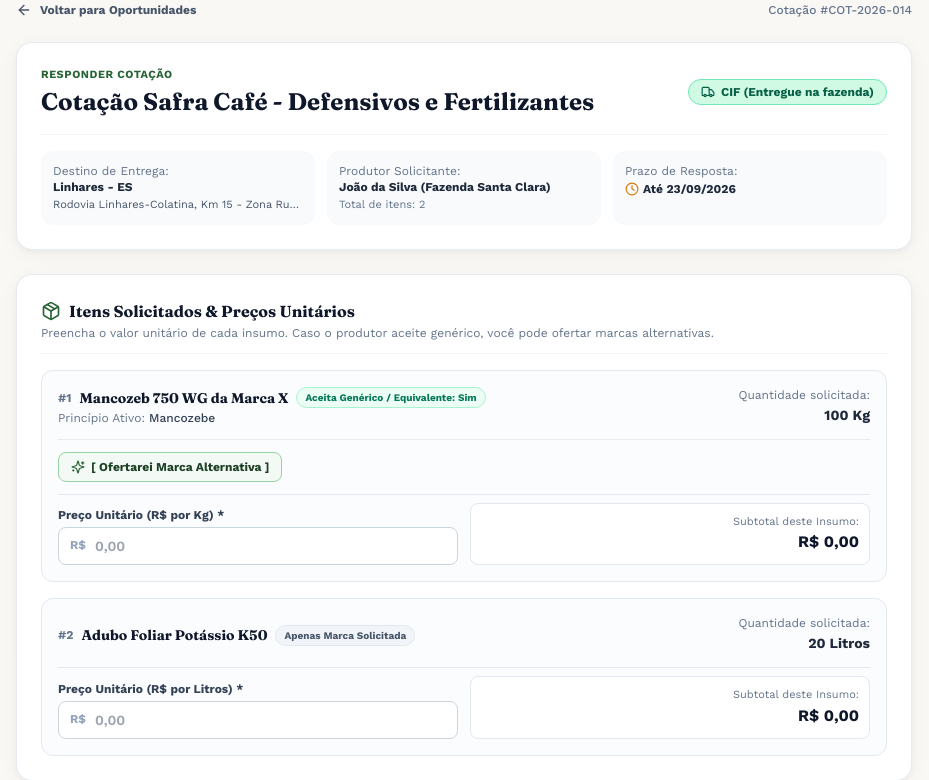
US14 – Envio de Proposta e Oferta de Genéricos/Equivalentes (SubmitBidPage) › Cenário 1: Preenchimento de proposta integral com frete CIF › deve preencher valores unitários, frete CIF, prazo, validade e submeter com status SUBMITTED e confirmação
Check: the heading "Cotação Safra Café - Defensivos e Fertilizantes" is shown, box [41,86,594,118]
Check: the element with test id "badge-freight-type" reads "CIF (Entregue na fazenda)", box [721,85,874,99]
Type "55.00" into the number field with test id "input-unit-price-item-generic-1" at (258, 546), box [58,527,458,565]
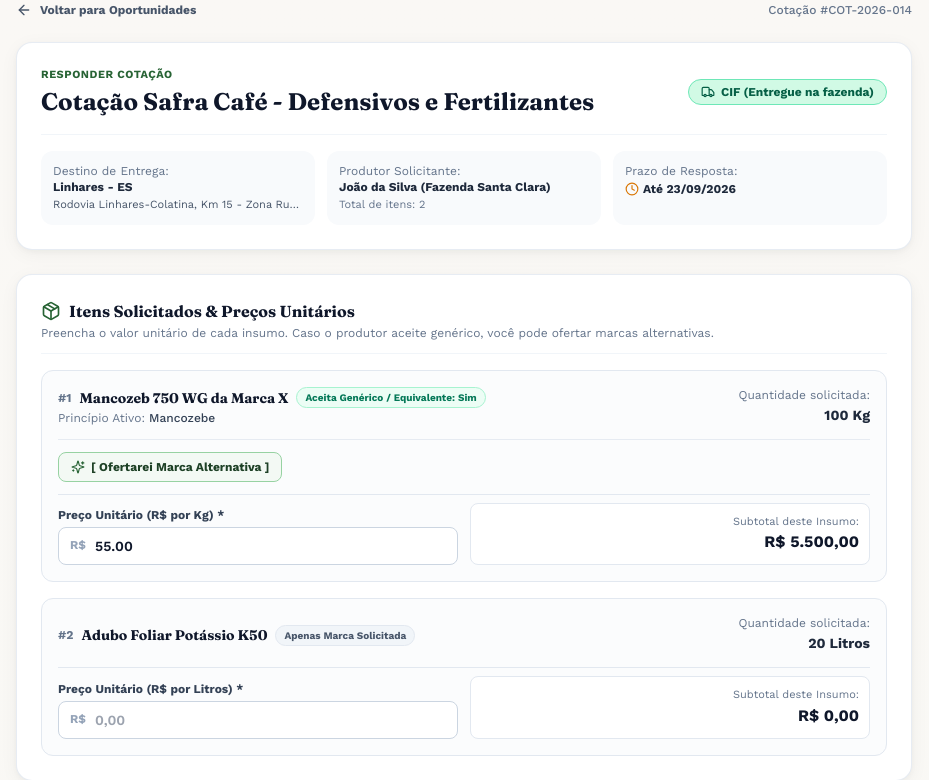
Type "80.00" into the number field with test id "input-unit-price-item-strict-2" at (258, 720), box [58,700,458,738]
(page scrolled)
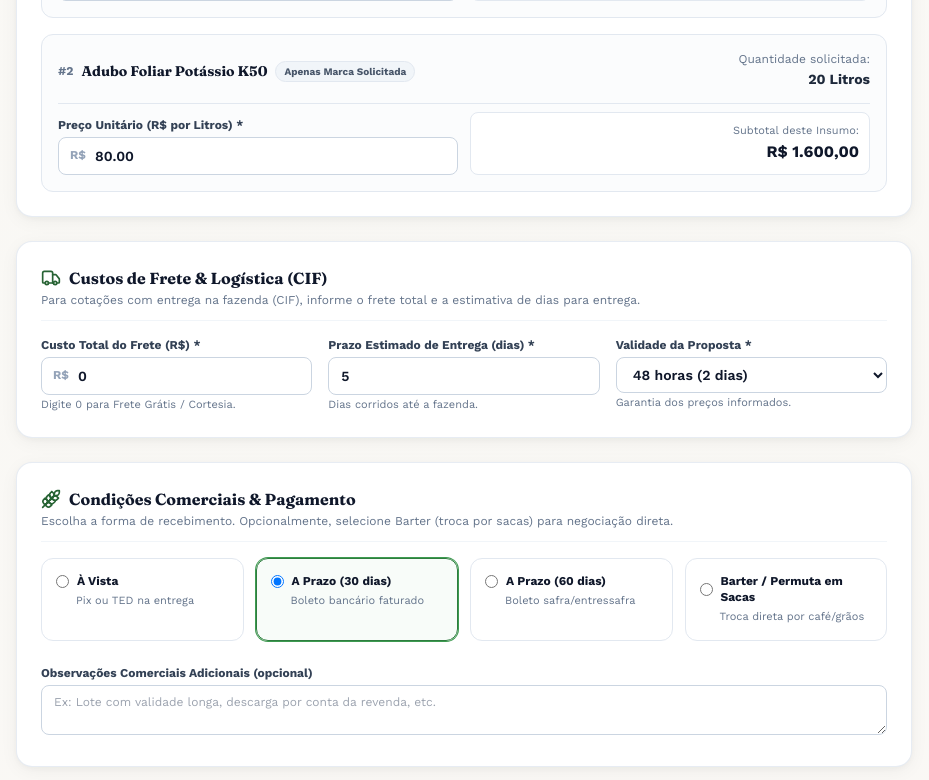
# Preenche frete CIF (R$ 150.00)
Replace the text in the number field with test id "input-freight-cost" with "150.00" at (177, 376), box [41,356,312,394]
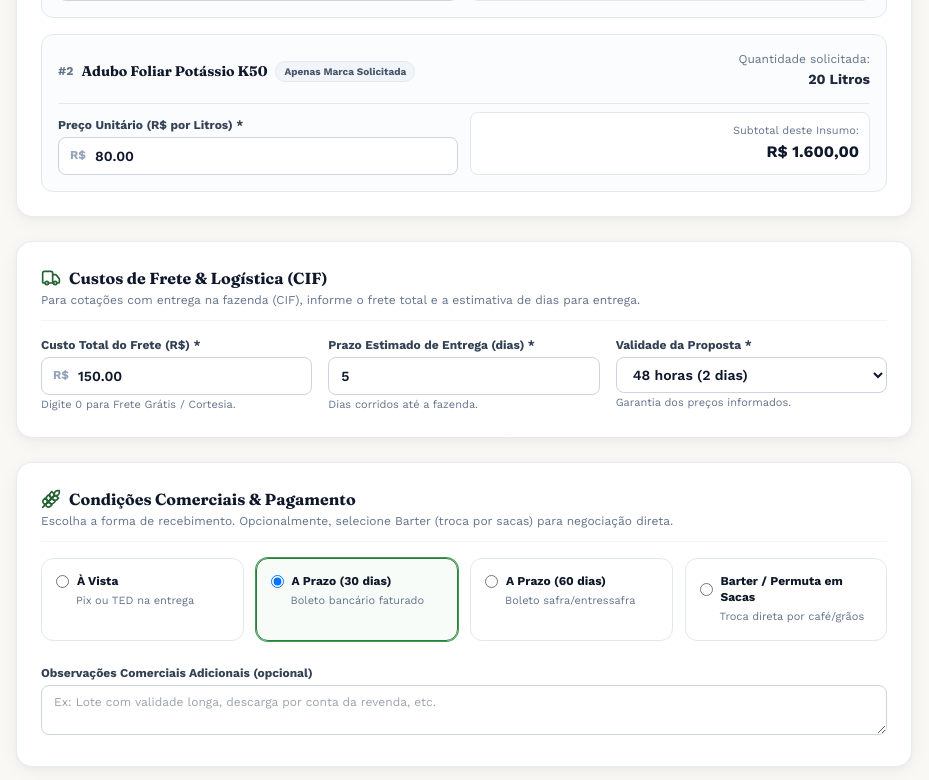
# Preenche prazo estimado de entrega (3 dias)
Replace the text in the number field with test id "input-delivery-days" with "3" at (464, 376), box [328,356,600,394]
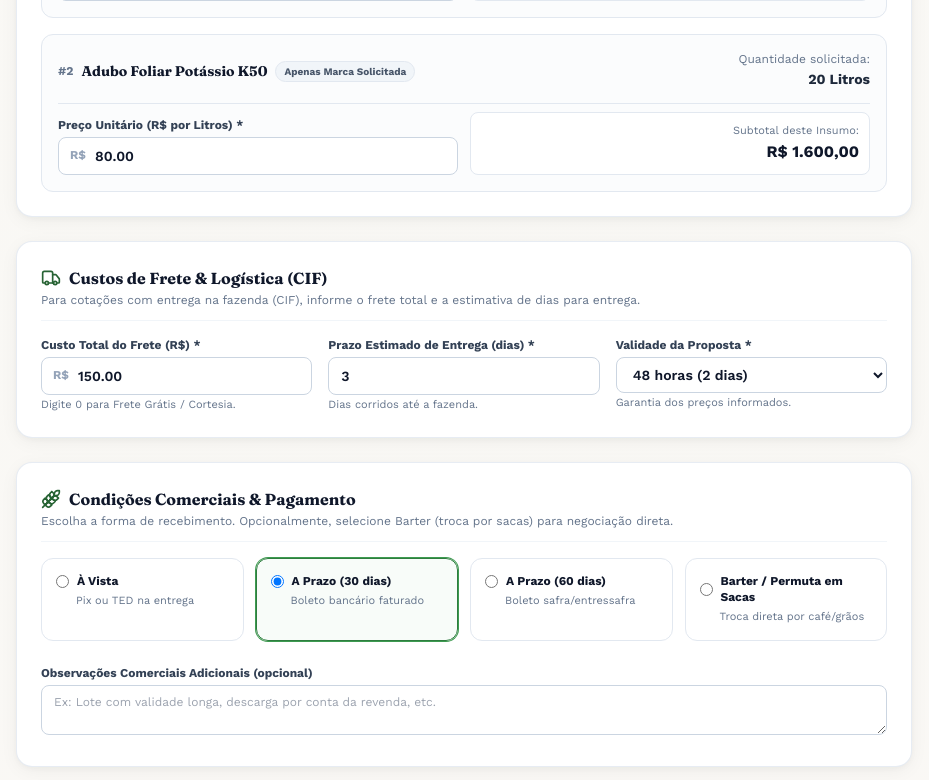
# Preenche validade da proposta (48 horas)
Select "48 horas (2 dias)" in the dropdown with test id "input-validity-hours" at (751, 374), box [616,356,887,392]
(page scrolled)
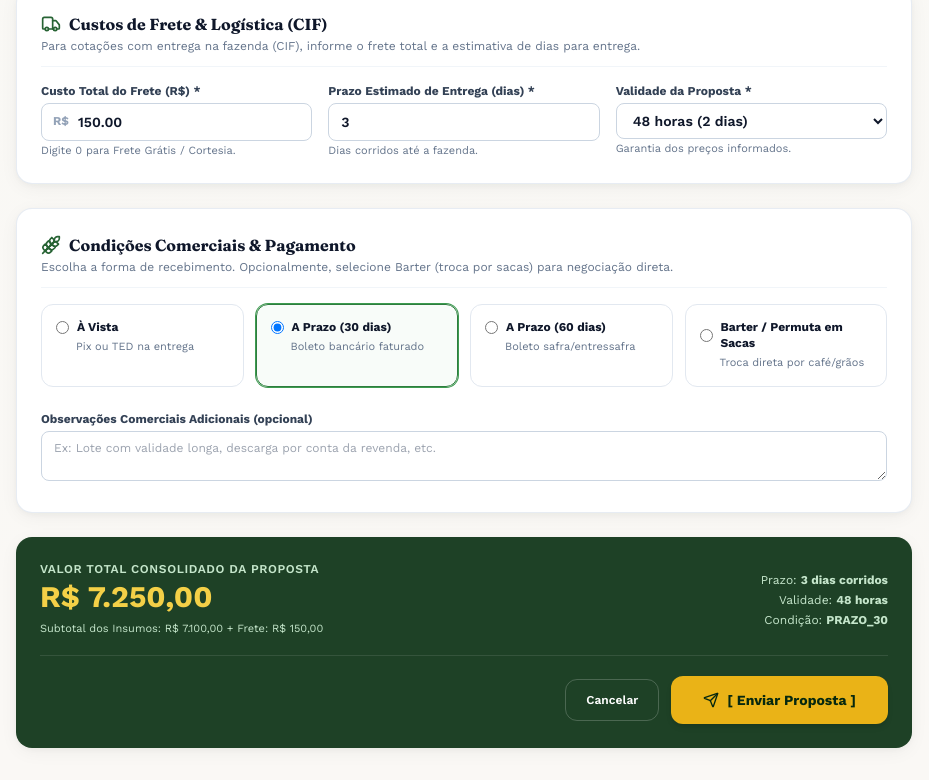
Check: the text with test id "total-proposal-amount" reads "R$ 7.250,00", box [40,578,212,614]
# Clica em [ Enviar Proposta ]
Click the button with test id "btn-submit-bid" at (780, 700), box [671,676,888,724]
(page scrolled)
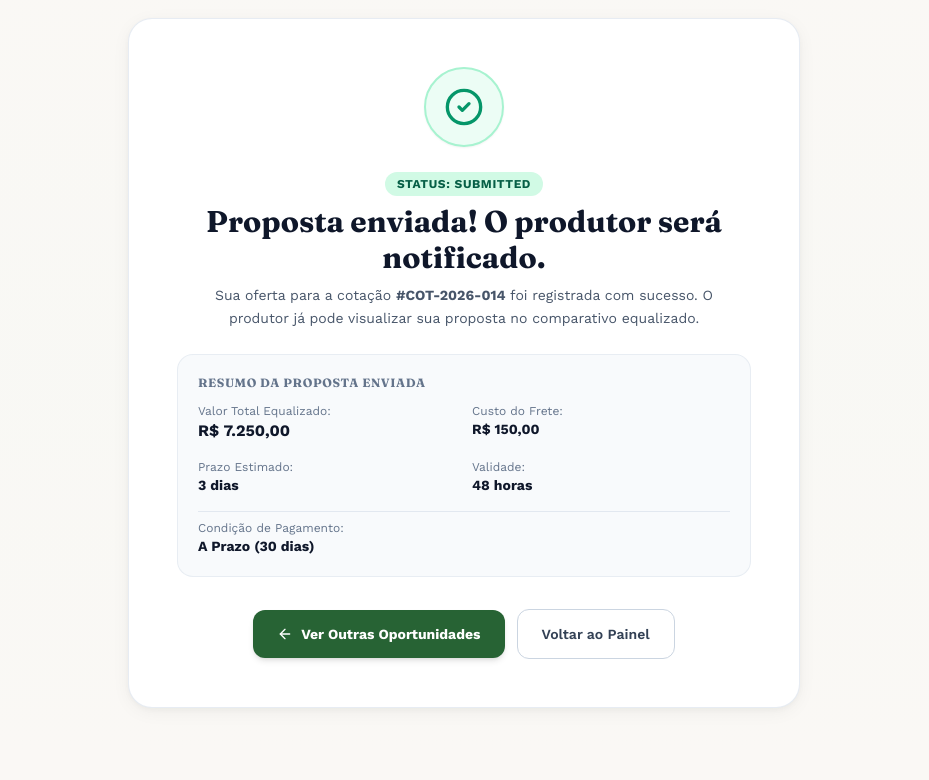
Check: the element with test id "bid-submitted-success" is shown
Check: the heading "Proposta enviada! O produtor será notificado." is shown, box [177,204,751,276]
Check: the text with test id "bid-status-badge" shows "SUBMITTED", box [397,177,531,191]
